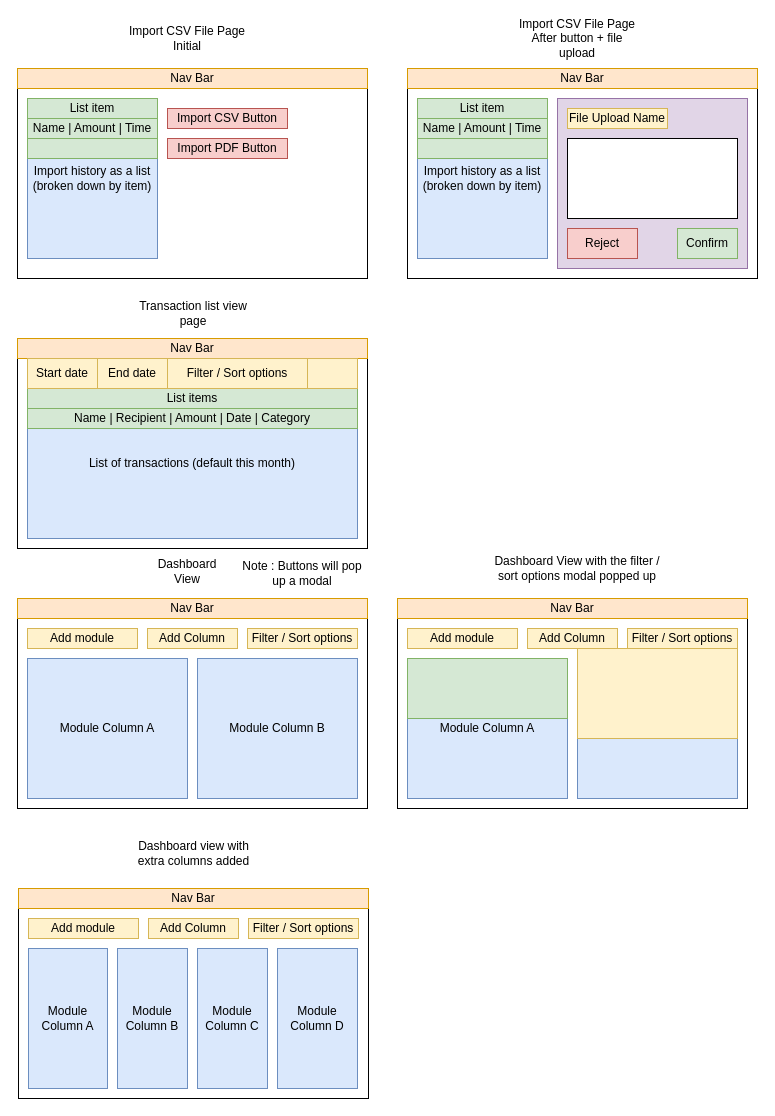
Image size: 775x1116. Some labels were removed from this diagram. The shapes that lost their labels are listed below. From the top down, each one's centre as x and y in pixels, then its label:
At point 652,178: "Scrollable list of transactions".
At point 332,373: "Apply".
At point 487,688: "Selected module (e.g. bar chart)".
At point 657,693: "Filter options modal".
